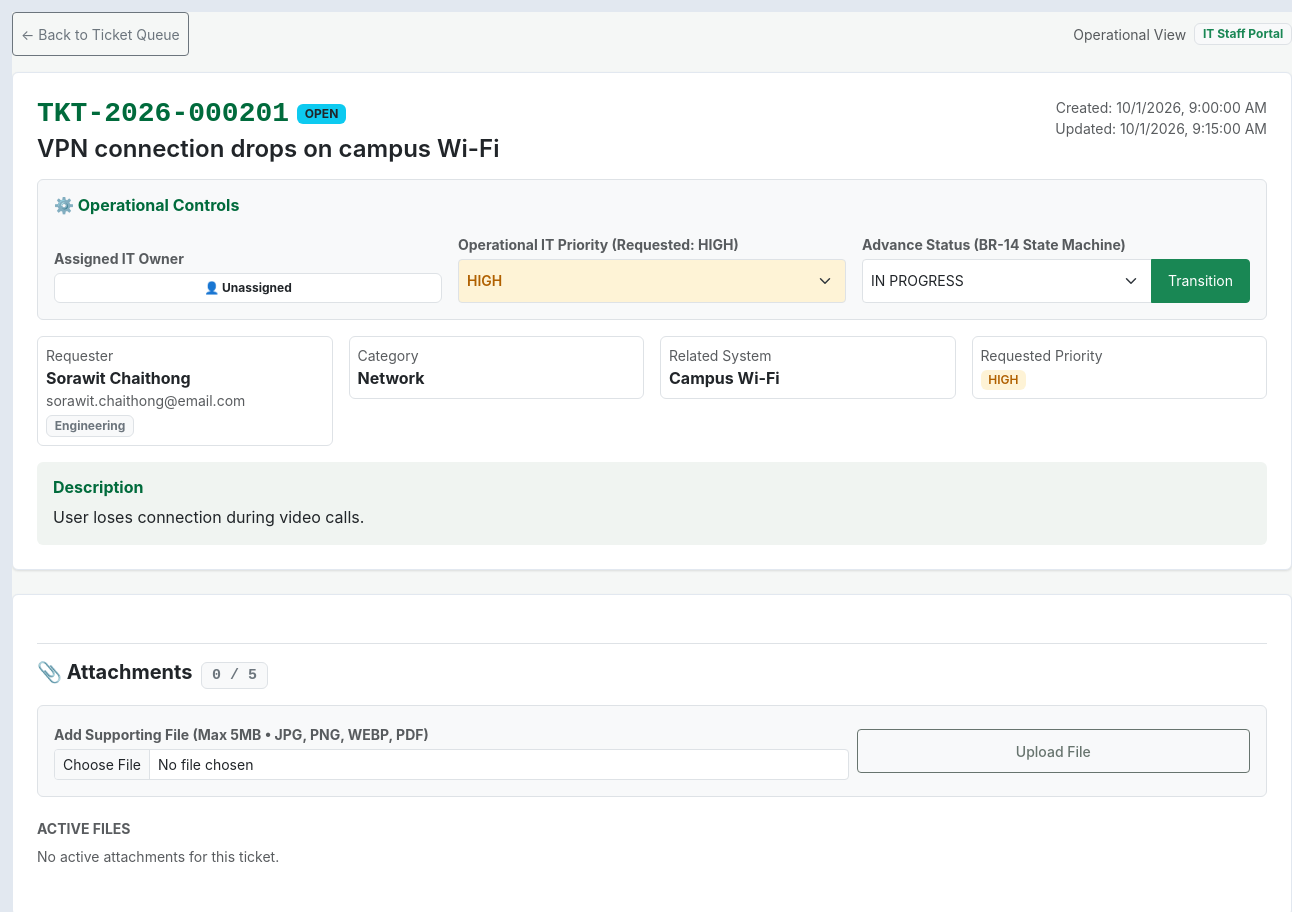
Test case: Workflow & Concurrency UI Component Tests (FR-08 / AC-11) › displays Concurrency Conflict banner when API rejects with HTTP 409
The width and height of the screenshot is (1292, 912).
Click the button with test id "apply-status-btn". click: (1200, 281)
box: [1151, 259, 1250, 303]
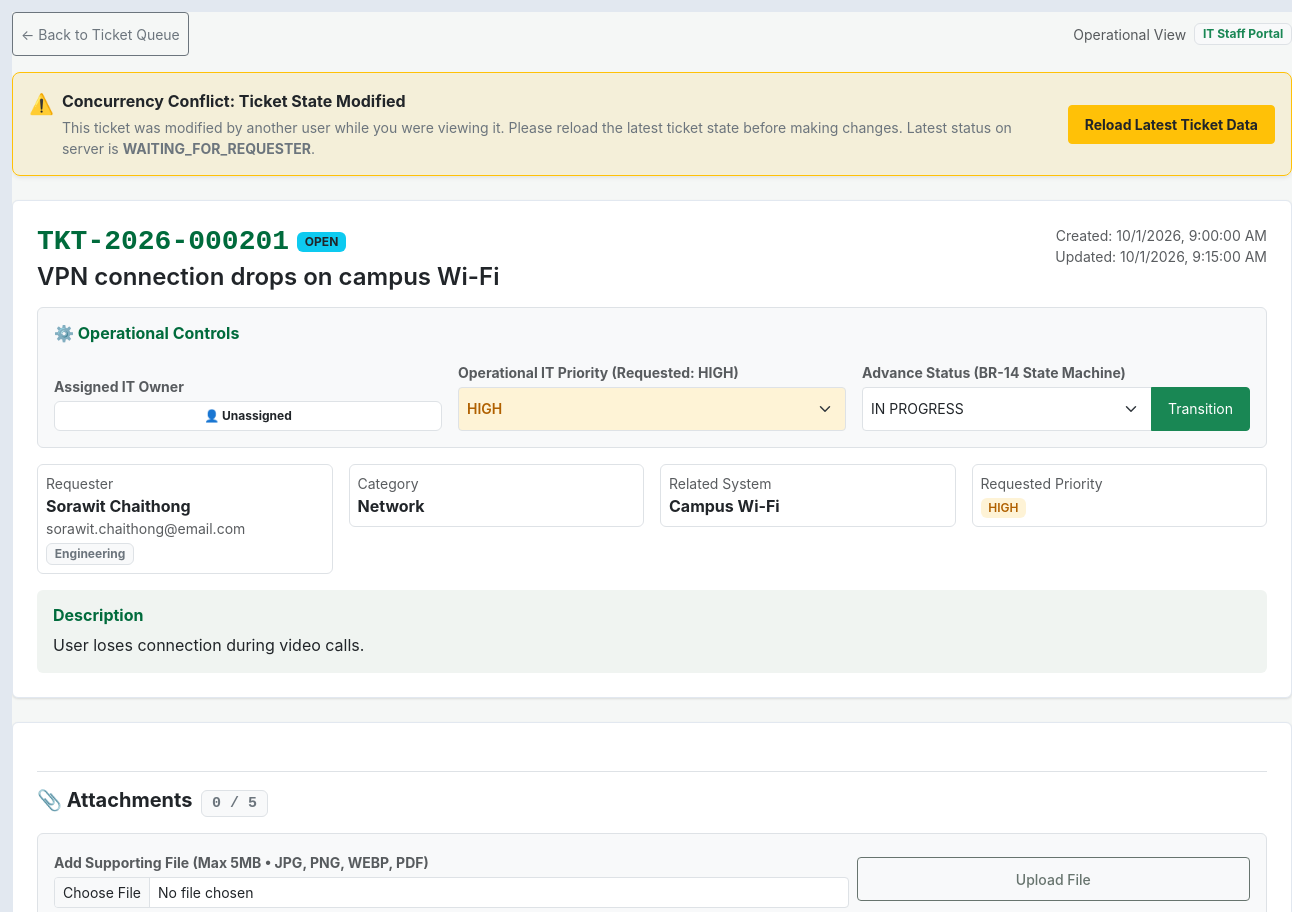
Now the message with test id "concurrency-conflict-banner" is shown, box [12, 72, 1291, 176]
Now the text "Concurrency Conflict: Ticket State Modified" is shown, box [62, 91, 406, 111]
Now the text "WAITING_FOR_REQUESTER" is shown, box [123, 140, 311, 157]
